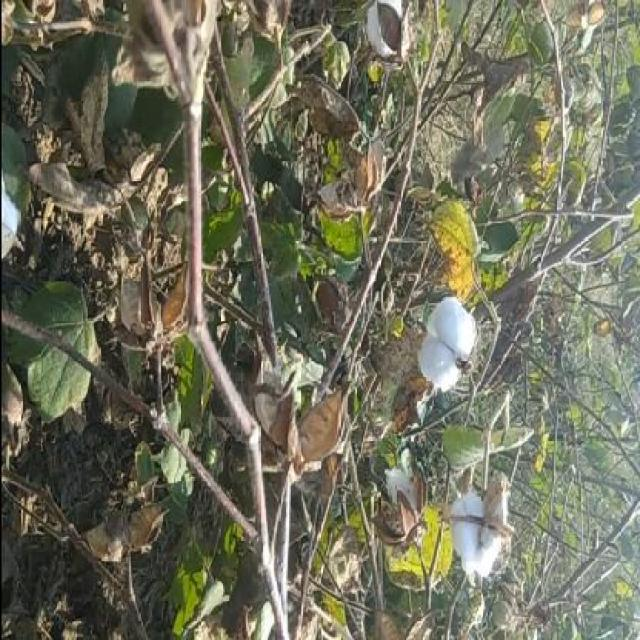cotton_ready: (400, 274, 480, 415), (432, 462, 519, 578)
